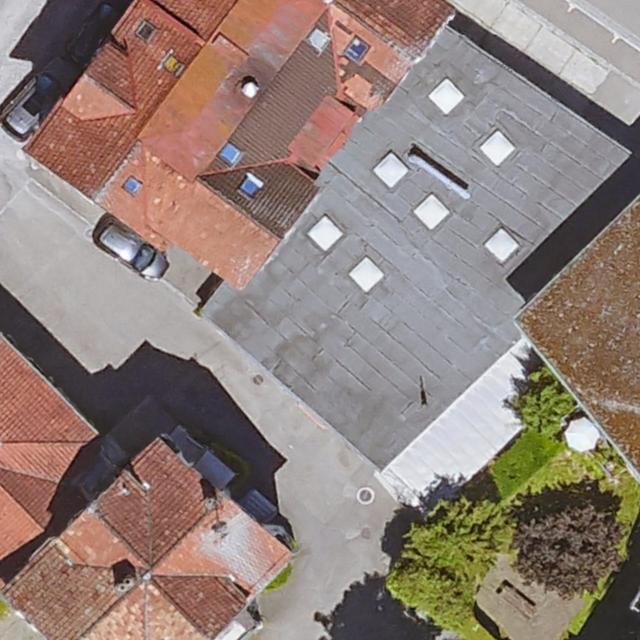tree: (514, 494, 621, 597), (395, 498, 503, 580), (513, 373, 576, 438)
